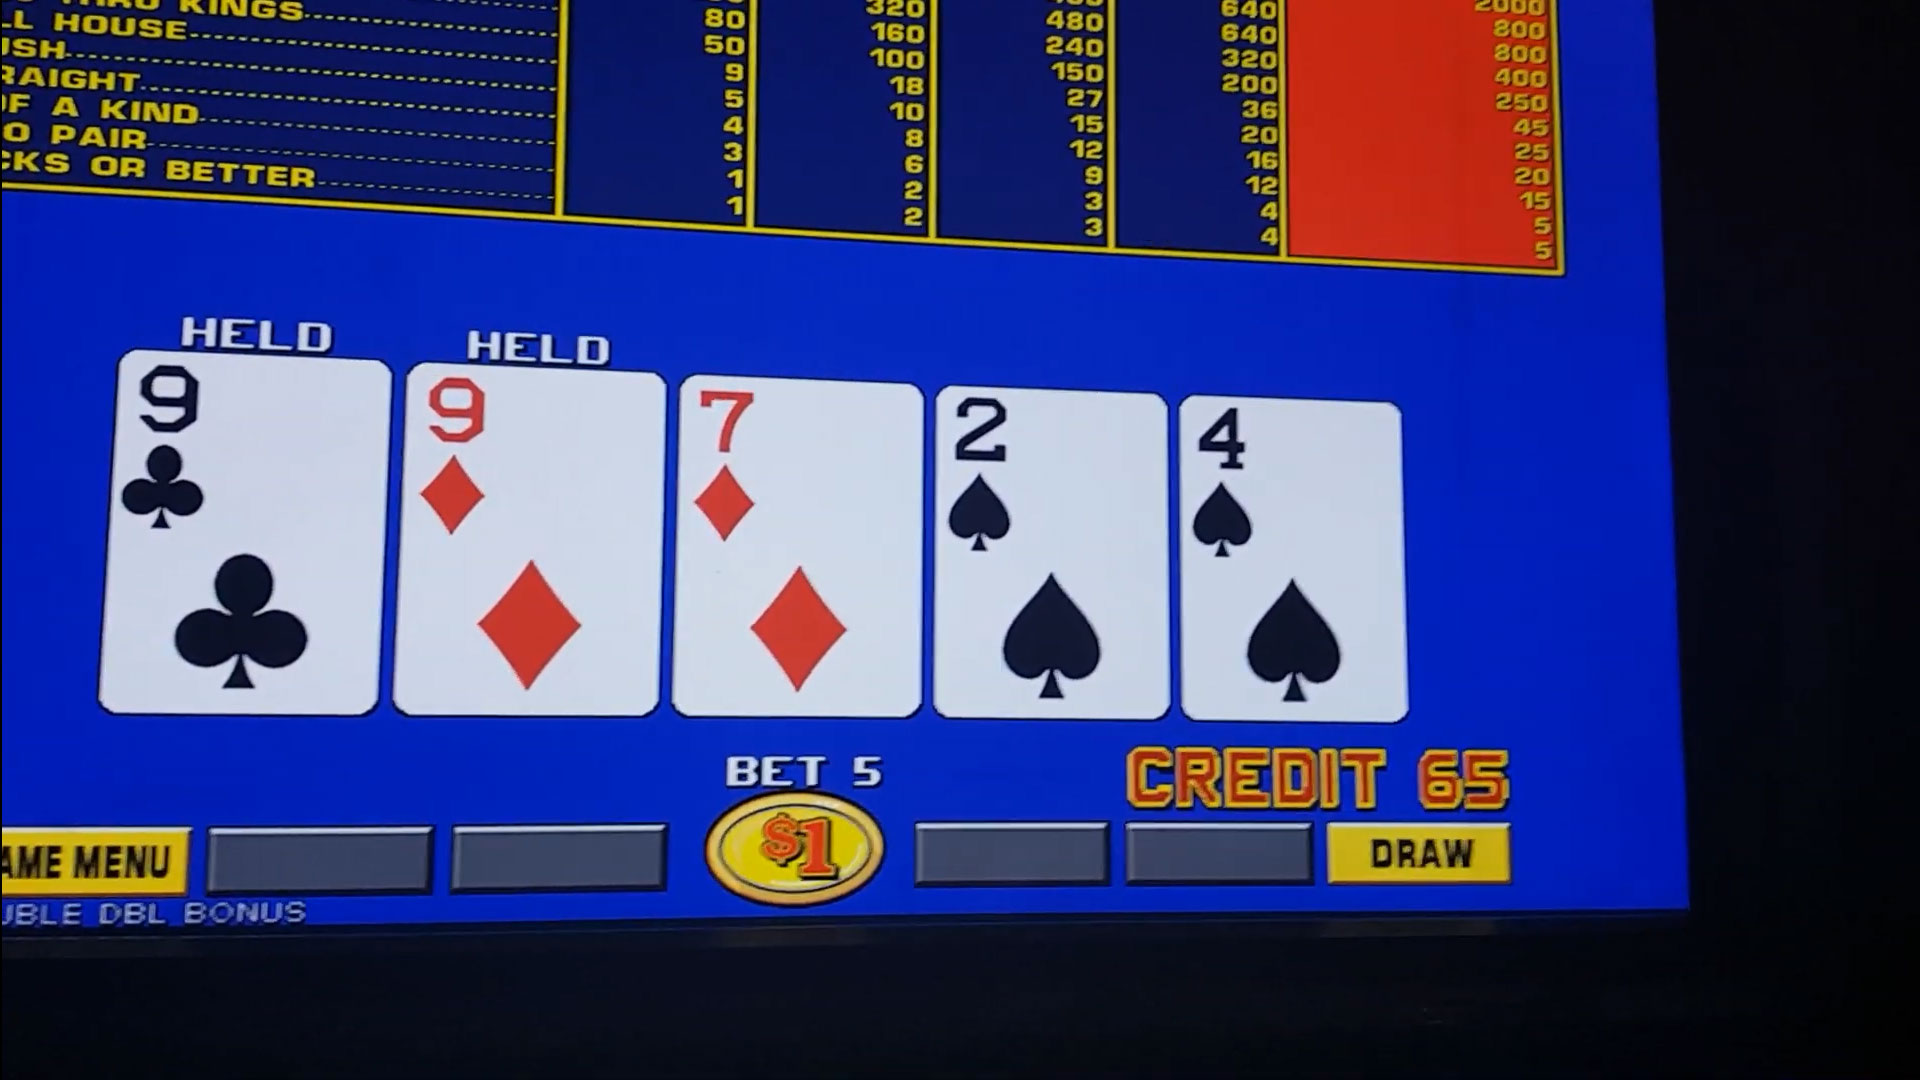C9: (115, 361, 386, 549)
D7: (686, 384, 915, 559)
D9: (414, 373, 659, 554)
S2: (942, 392, 1163, 567)
S4: (1184, 407, 1394, 568)
